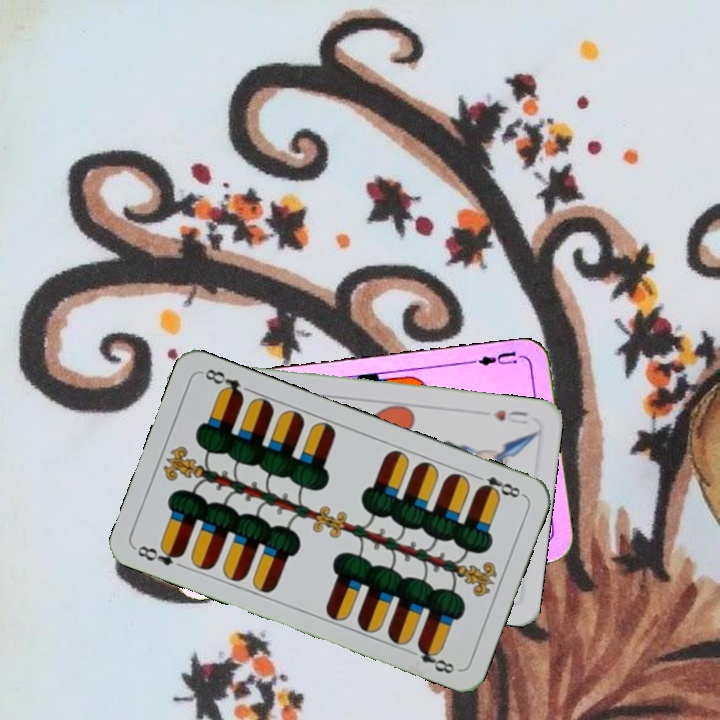E8: (469, 470, 526, 501), (132, 541, 187, 569)
EU: (470, 347, 530, 371)
HU: (490, 406, 530, 427)
